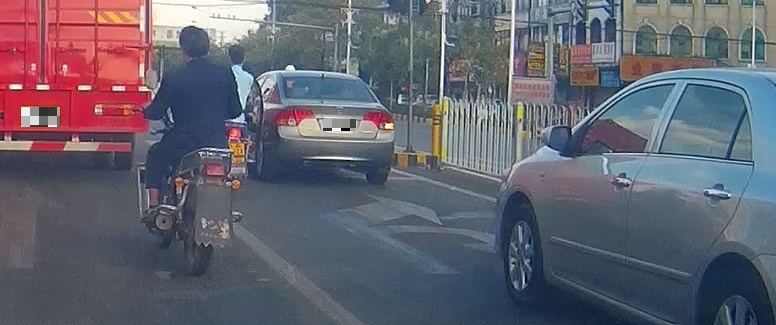L_light: (274, 109, 315, 127)
R_light: (362, 111, 395, 131)
T_light: (317, 76, 335, 81)
day-right: (255, 70, 396, 186)
plate_1: (21, 107, 60, 127)
plate_2: (323, 119, 356, 131)
